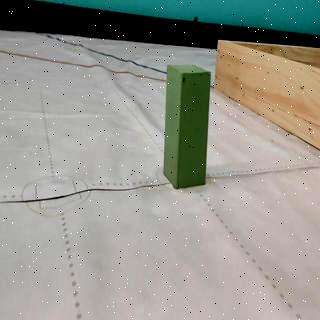greenbox: (162, 62, 212, 190)
